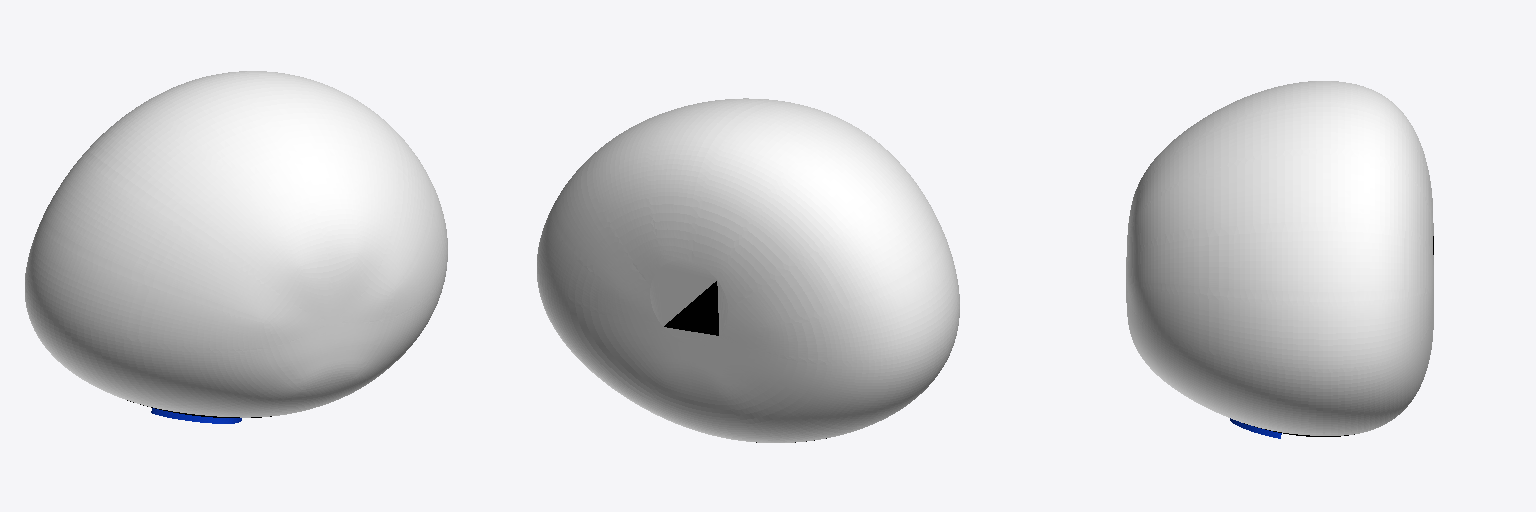
The model's file is eve_head.obj.
3 renders of one model, left to right at view 1: azimuth 30°, elevation 25°; view 2: azimuth 150°, elevation 25°; view 3: azimuth 270°, elevation 25°, orthographic.
Parts seen in each view (by area): view 1: Head; view 2: Head; view 3: Head.
Part boxes in pixels (bbox=[...]): Head: bbox=[25, 71, 447, 423]; Head: bbox=[537, 98, 959, 442]; Head: bbox=[1126, 81, 1433, 438].
Bounding box in the file's own units: 0.5858 × 0.4435 × 0.402.